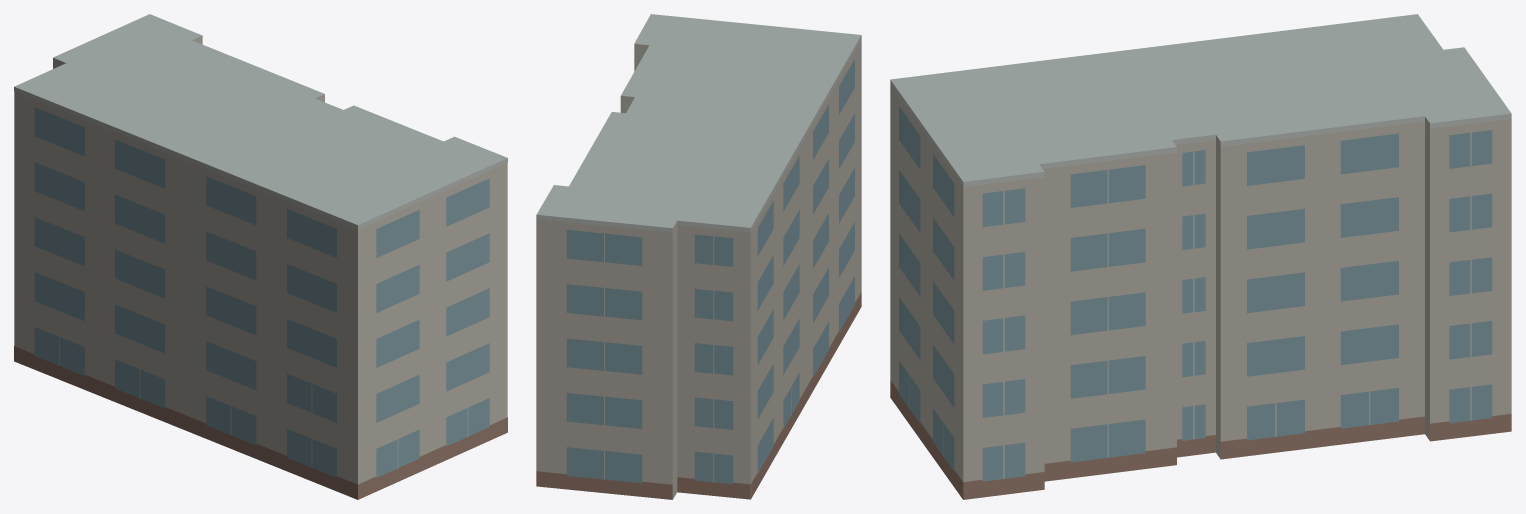
File: survey-upis-32611805.glb
The picture shows the model from 3 angles, left to right: view 1: azimuth 30°, elevation 25°; view 2: azimuth 150°, elevation 25°; view 3: azimuth 270°, elevation 25°; orthographic projection. The views are drawn at different scales.
Parts seen in each view (by area): view 1: survey-upis-32611805.tmp; view 2: survey-upis-32611805.tmp; view 3: survey-upis-32611805.tmp.
Part boxes in pixels (left/top/right/bottom): survey-upis-32611805.tmp: left=14, top=14, right=507, bottom=499; survey-upis-32611805.tmp: left=536, top=14, right=861, bottom=499; survey-upis-32611805.tmp: left=890, top=14, right=1511, bottom=499.
Size of the model in its own units: 16.21 by 14.3 by 25.34.
